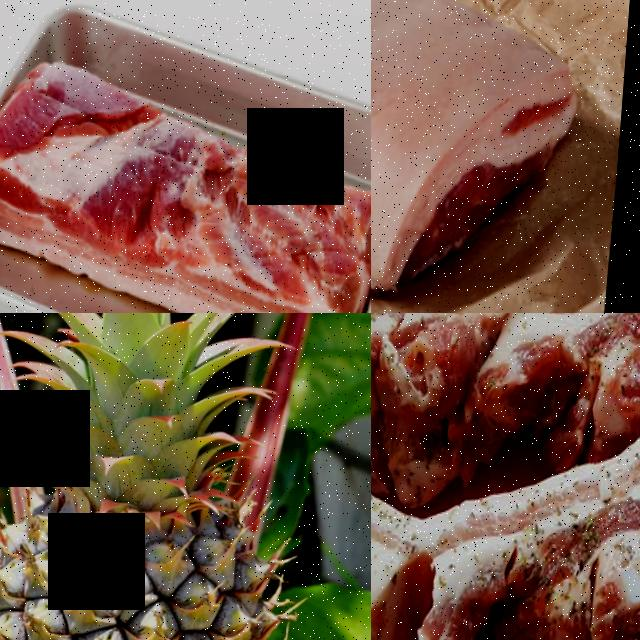pineapple: (0, 420, 298, 640)
pork belly: (371, 0, 579, 286), (429, 388, 640, 640), (144, 115, 371, 313), (0, 50, 175, 276), (371, 313, 497, 479), (475, 313, 640, 415)
